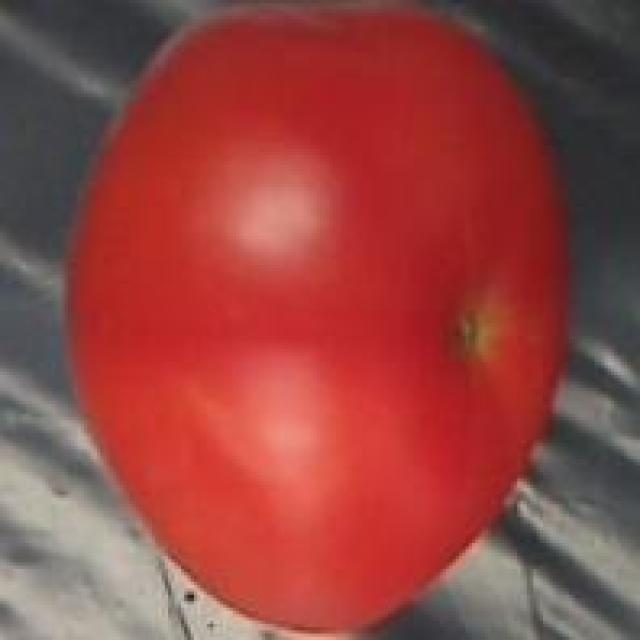overripe tomato: (51, 9, 578, 640)
